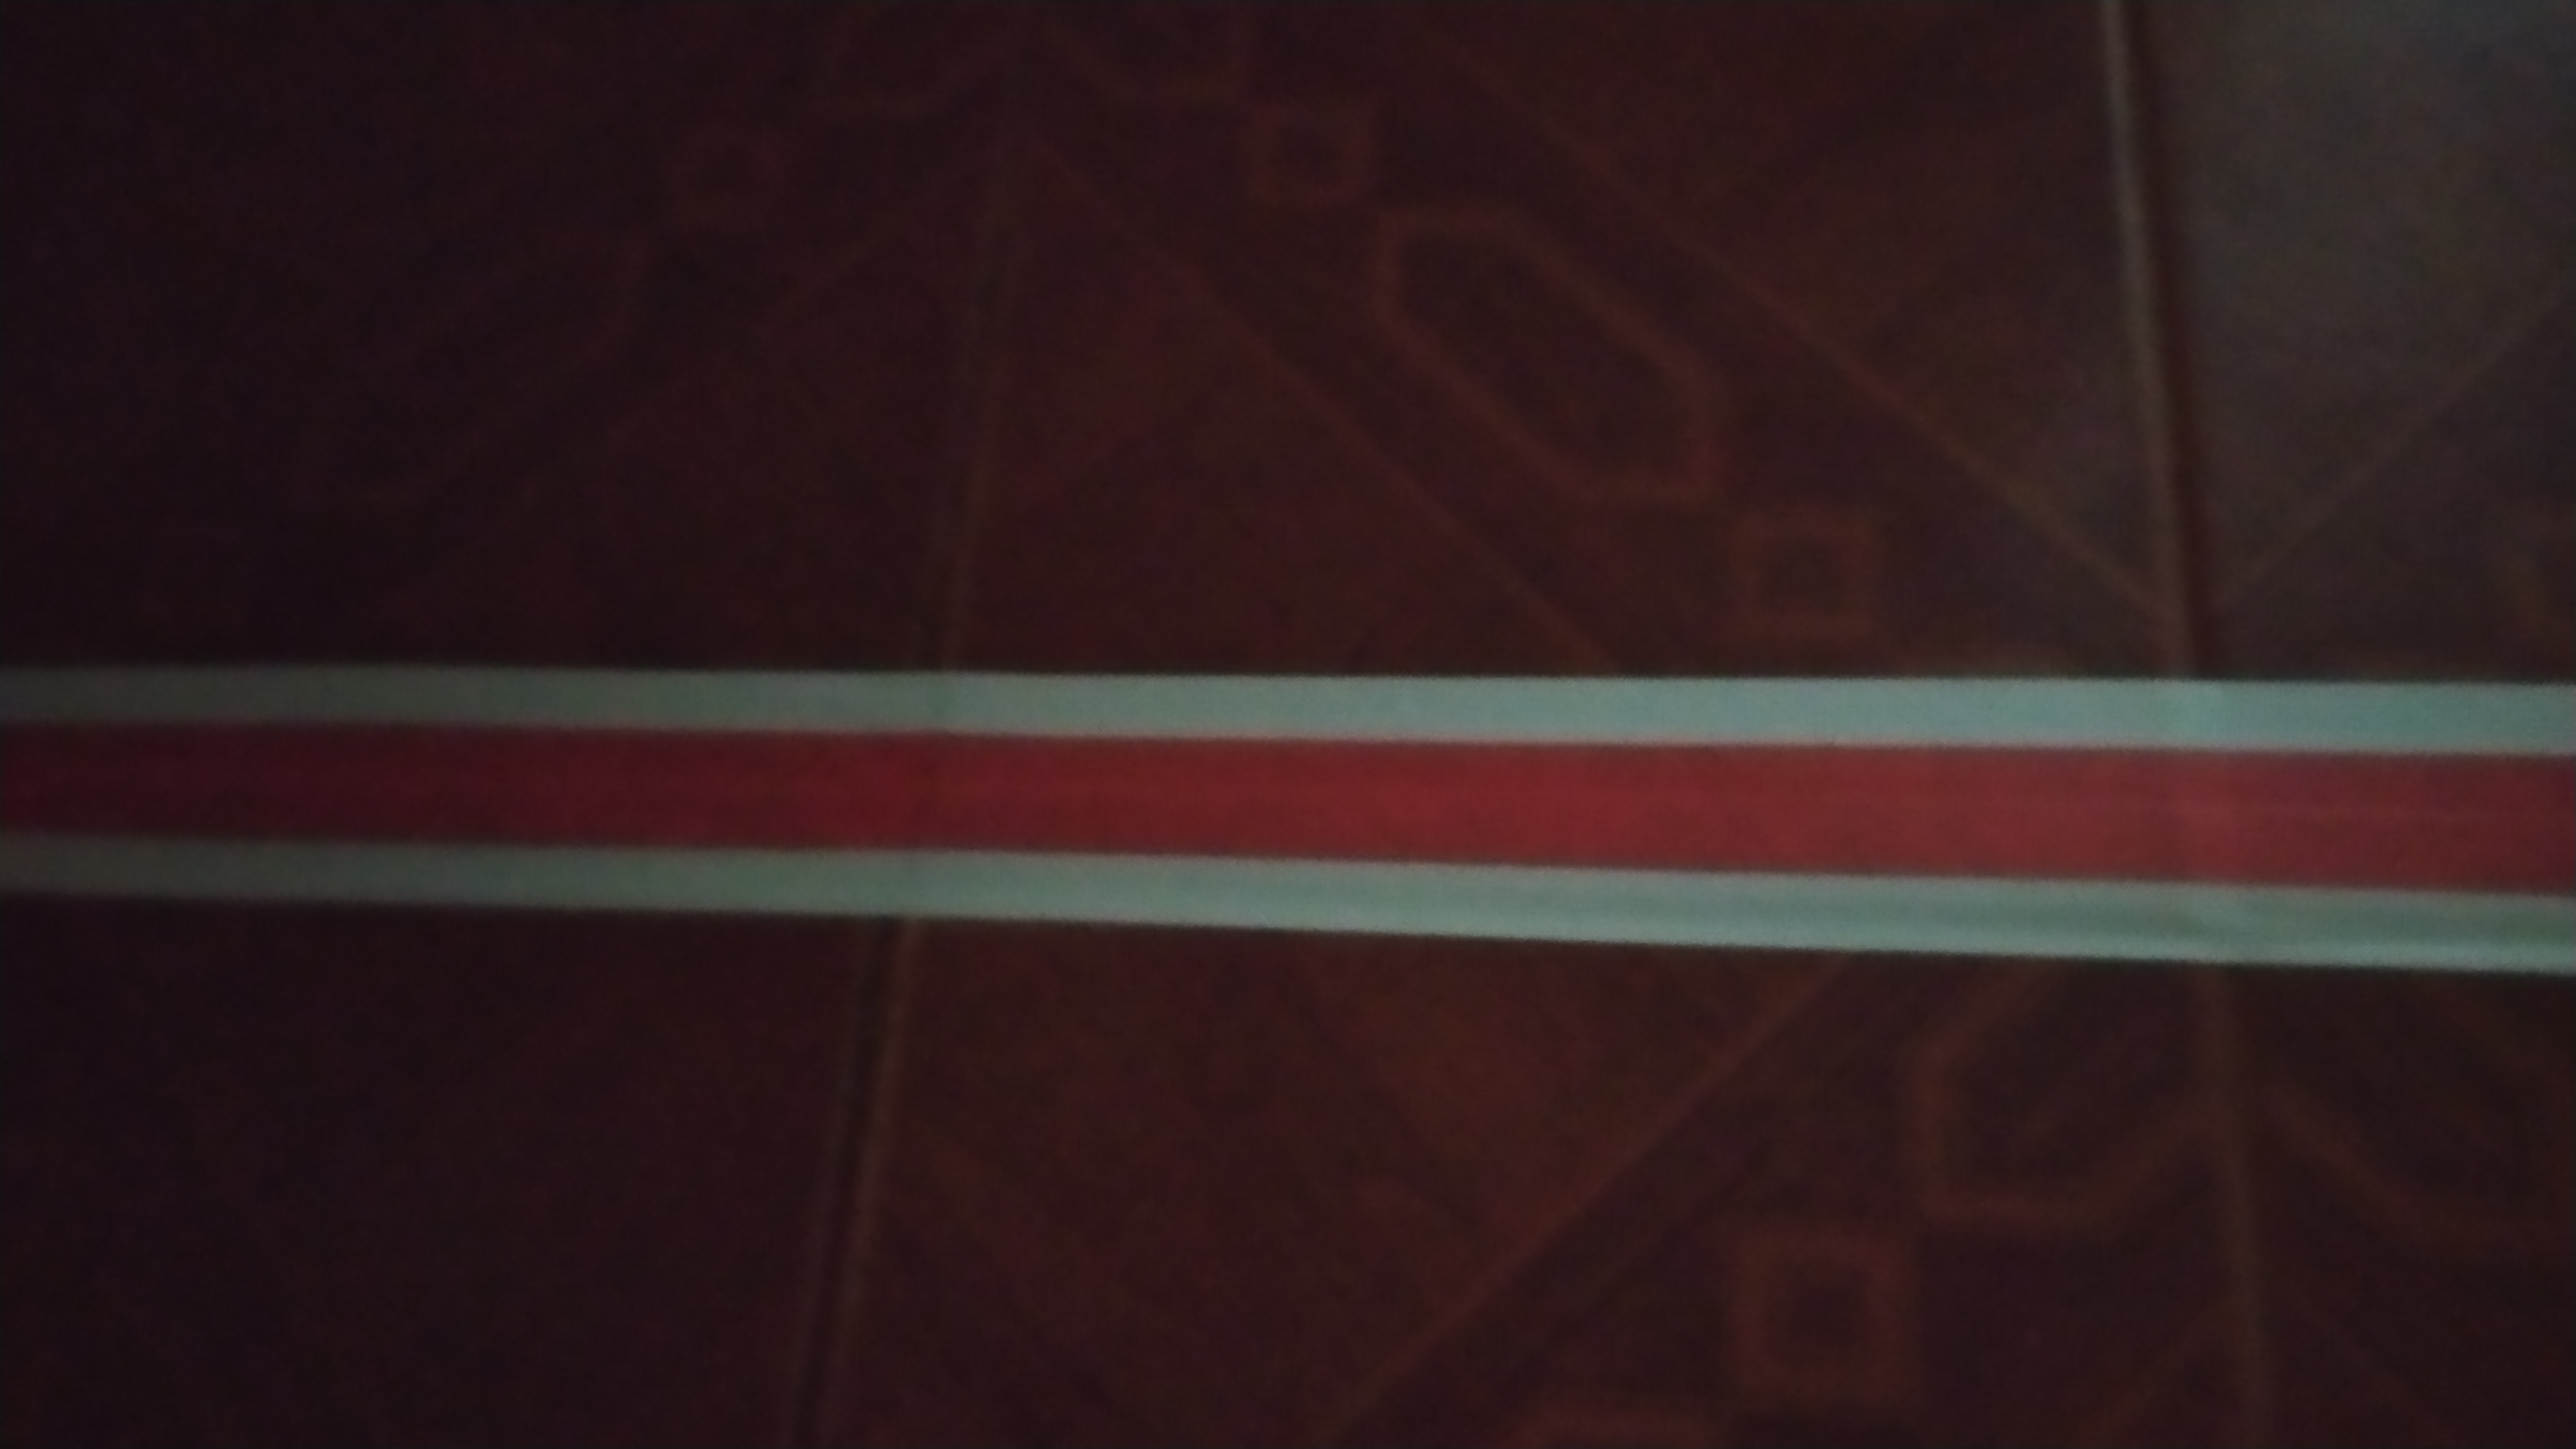faixa_reta: (0, 667, 2557, 985)
